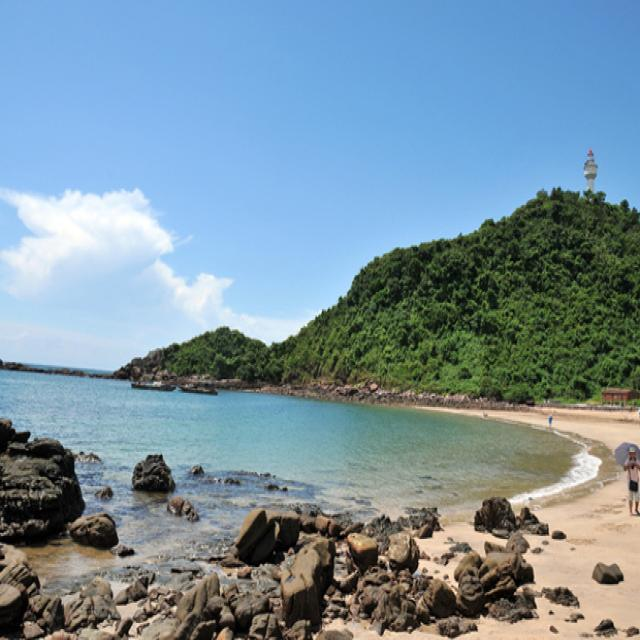island: (116, 142, 640, 408)
